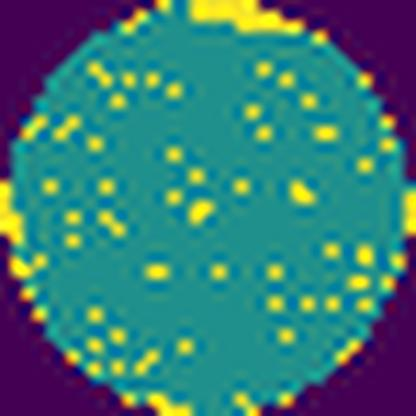Edge-Loc: (182, 0, 312, 40)
